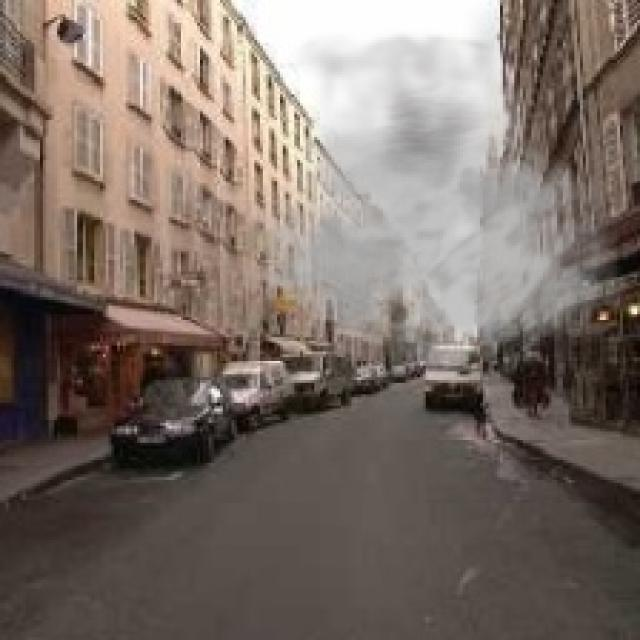Smoke: (223, 0, 632, 369)
